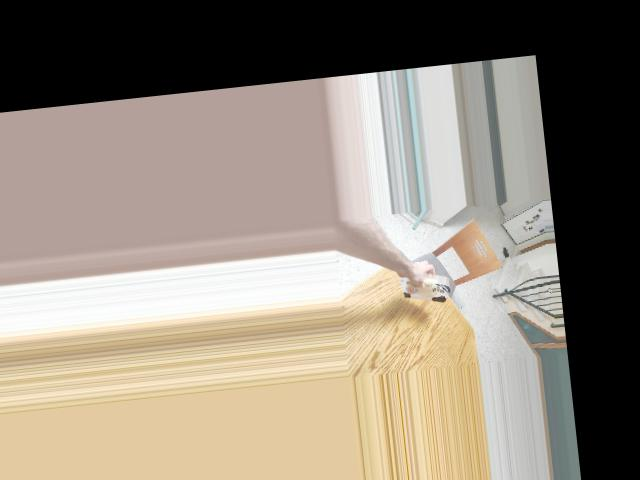cheese: (399, 269, 449, 306)
